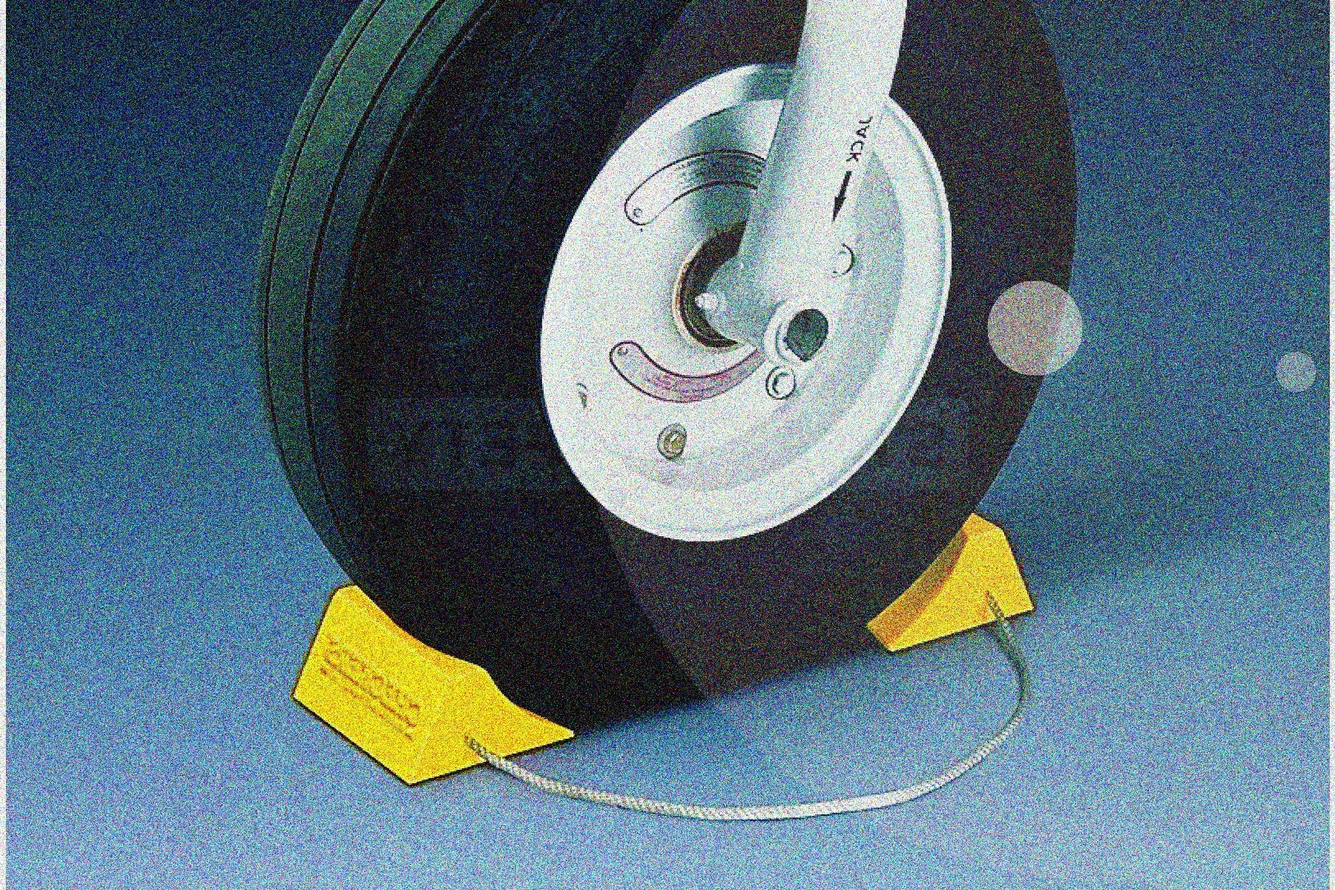chock: (287, 582, 577, 789), (864, 508, 1035, 654)
wheel: (250, 1, 1085, 716)
